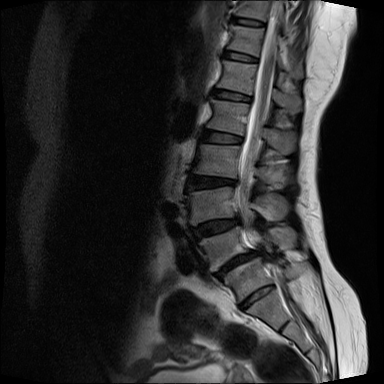Degenerative Disc Disease (DDD): (185, 207, 246, 247), (208, 243, 266, 283), (179, 168, 247, 200), (233, 279, 279, 316)
Normal IVD: (196, 125, 247, 152), (206, 81, 256, 107), (215, 46, 263, 67), (222, 11, 268, 30)
Spinal Stenosis (SS): (244, 238, 266, 267), (230, 205, 246, 231), (226, 172, 244, 192)
Spondylolisthesis: (202, 230, 280, 293)
